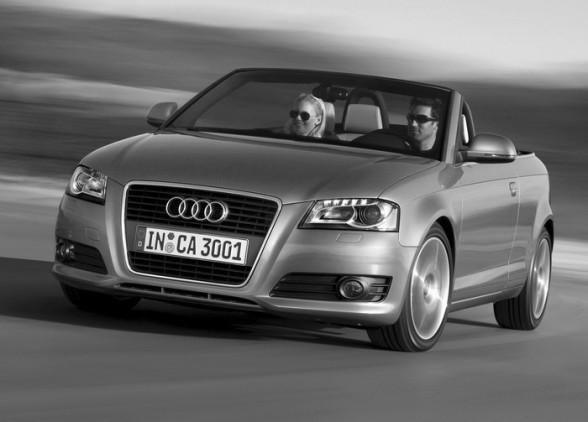car: (56, 69, 558, 354)
